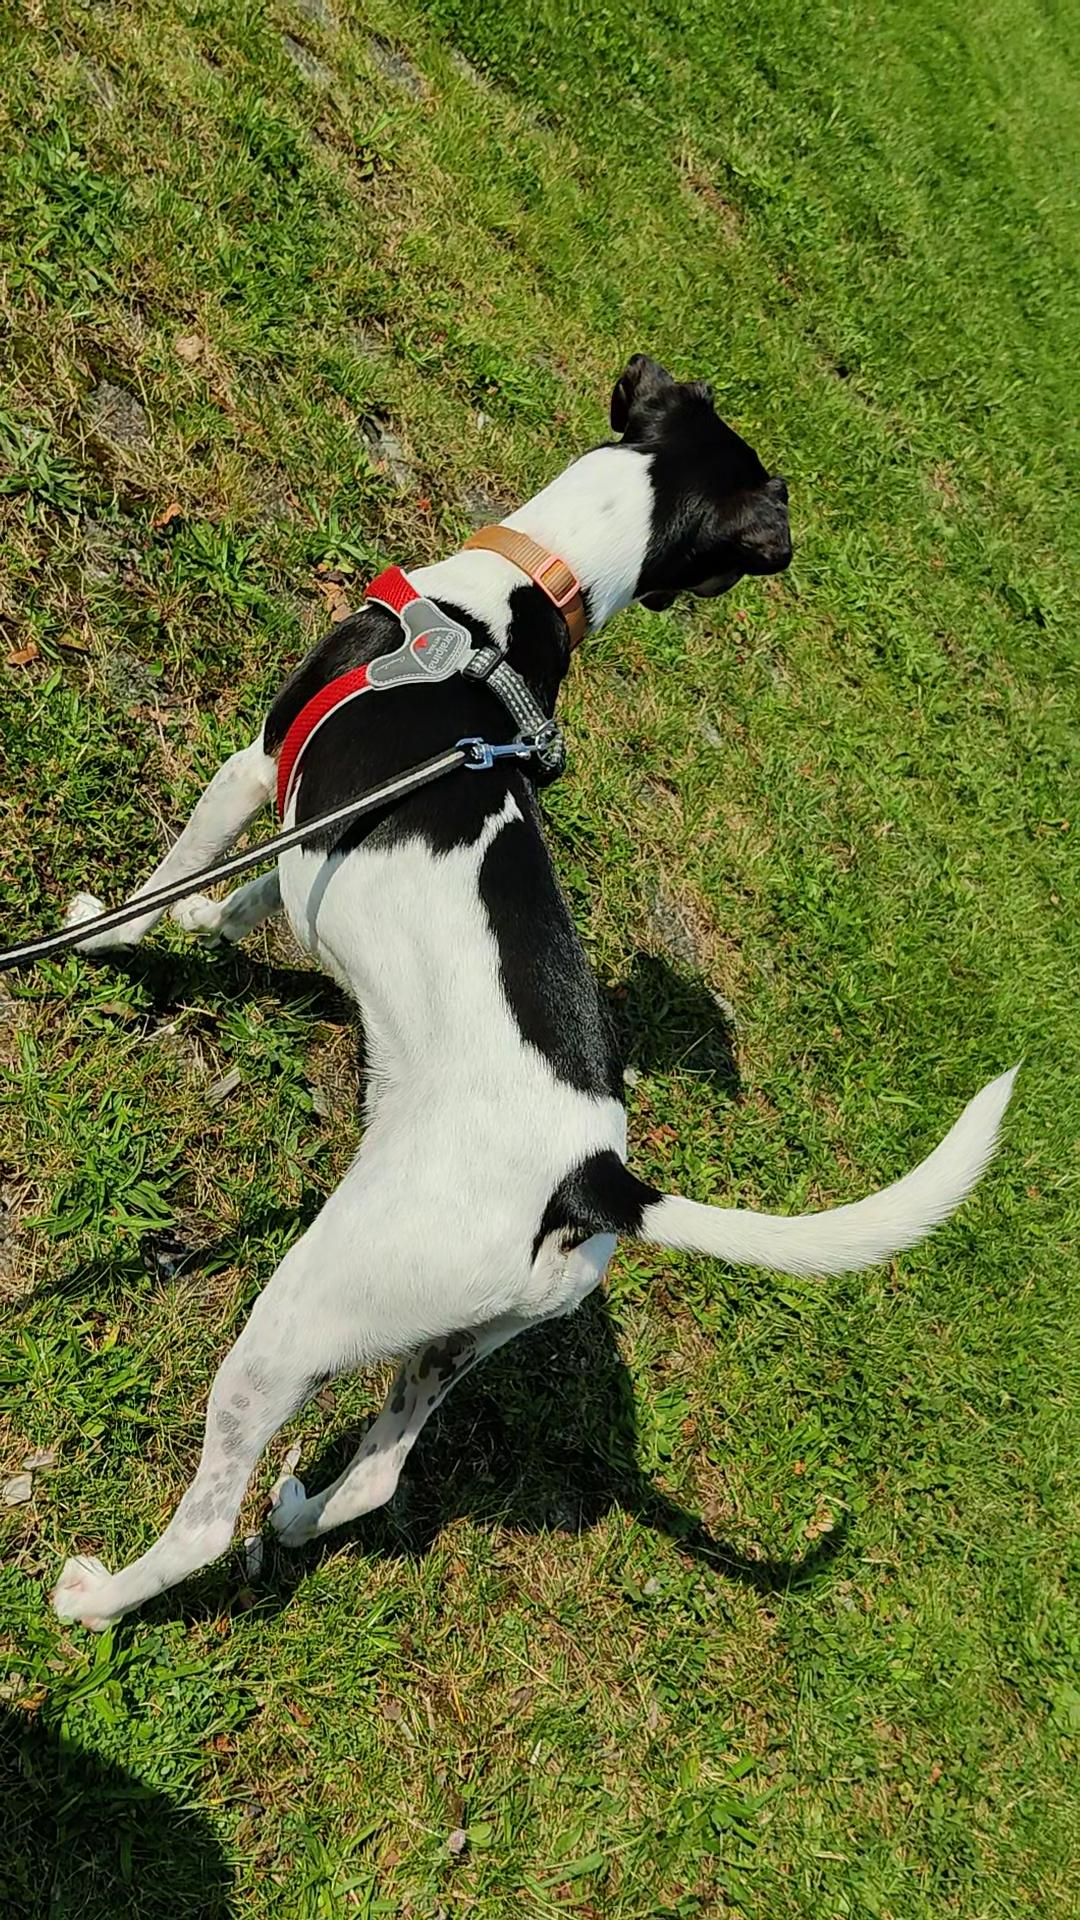Dog: (44, 347, 1029, 1635)
